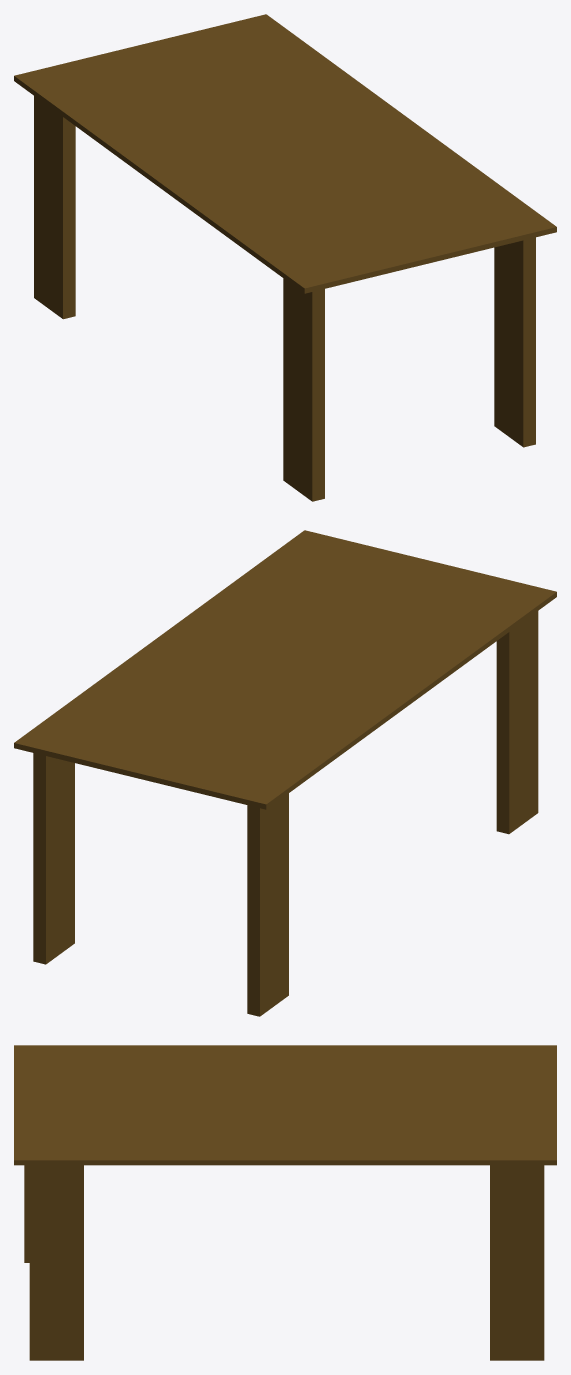
Rendered from table.fbx.
The picture shows the model from 3 angles, top to bottom: view 1: azimuth 30°, elevation 25°; view 2: azimuth 150°, elevation 25°; view 3: azimuth 270°, elevation 25°; orthographic projection. The views are drawn at different scales.
Visible parts, largest first — view 1: table; view 2: table; view 3: table.
Boxes of the visible parts, left/top/right/bottom form: table: left=14, top=14, right=556, bottom=501; table: left=14, top=530, right=556, bottom=1016; table: left=14, top=1045, right=556, bottom=1360.
Bounding box in the file's own units: 1001 × 836 × 1997.
